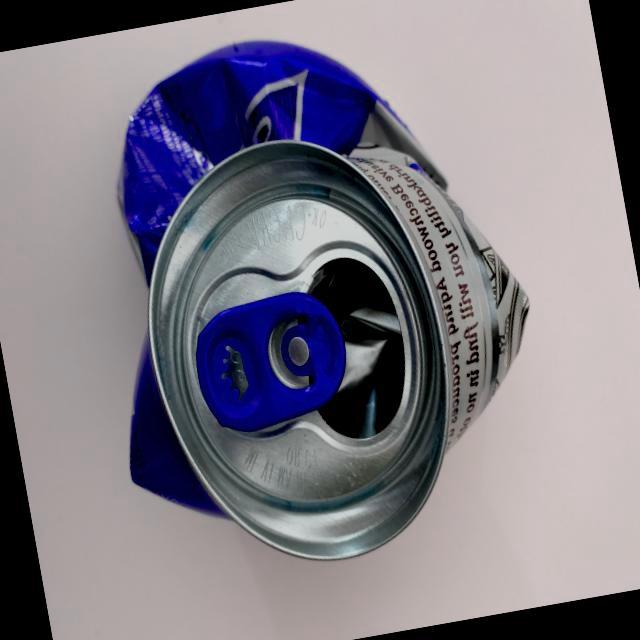metal: (16, 0, 616, 624)
